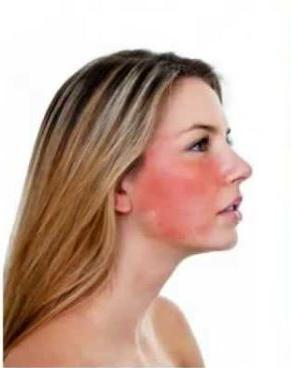Drunk: (151, 89, 258, 251)
